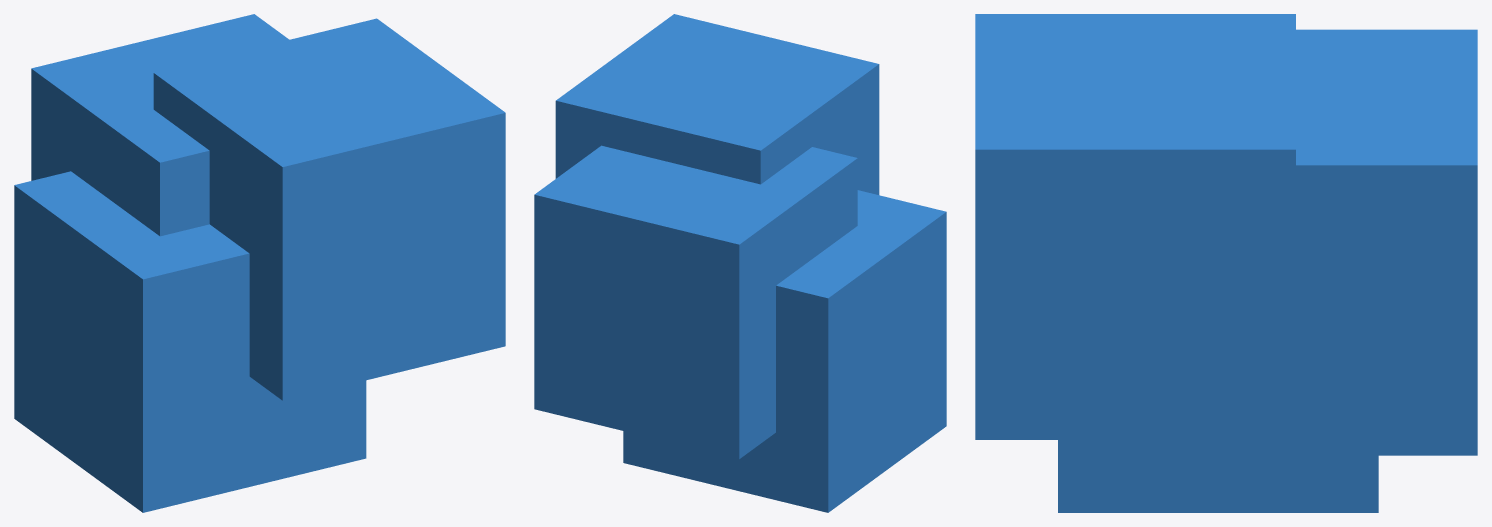
Rendered from flower_cap.glb.
3 views of the same model, side by side, from view 1: azimuth 30°, elevation 25°; view 2: azimuth 150°, elevation 25°; view 3: azimuth 270°, elevation 25° (orthographic). The views are drawn at different scales.
Visible parts, largest first — view 1: Cube; view 2: Cube; view 3: Cube.
Part boxes in pixels (box(x1,y1,x2,y2)): Cube: box(14, 14, 505, 512); Cube: box(534, 14, 946, 512); Cube: box(975, 14, 1477, 512).
Bounding box in the file's own units: 0.3795 × 0.3784 × 0.4023.
